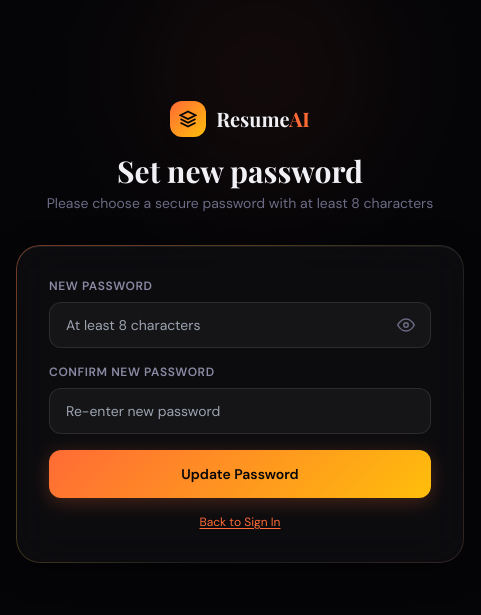
Authentication Pages and Form Validations › ResetPassword Page › validates matching new passwords before submit
Type "NewPassword123!" into the password field with placeholder "At least 8 characters". click: [240, 325]
box: [49,302,431,348]
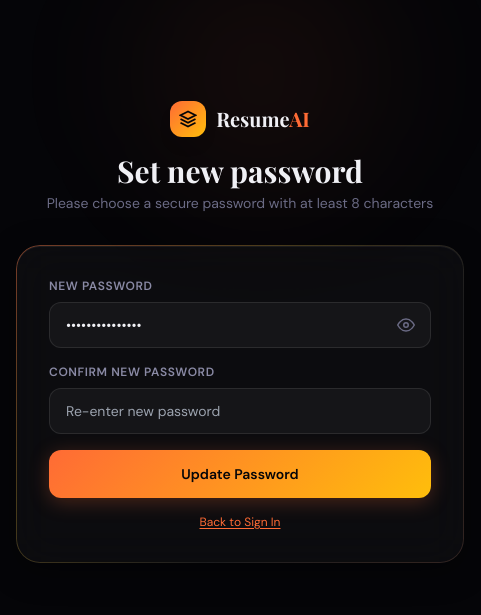
Type "DifferentPassword123!" into the password field with placeholder "Re-enter new password". click: [240, 411]
box: [49,388,431,434]
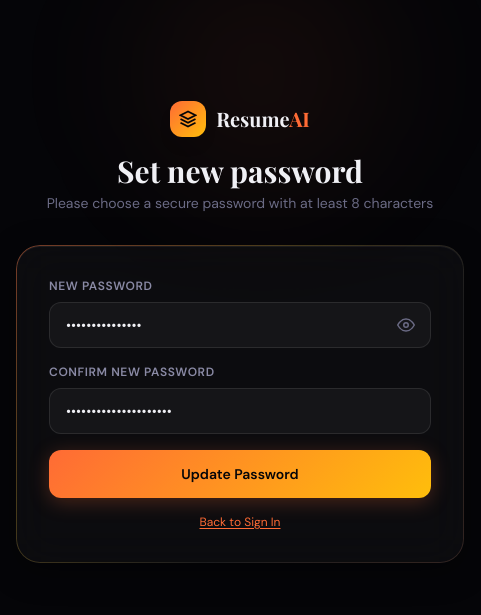
Click the button "Update Password". click: [240, 474]
box: [49,450,431,498]
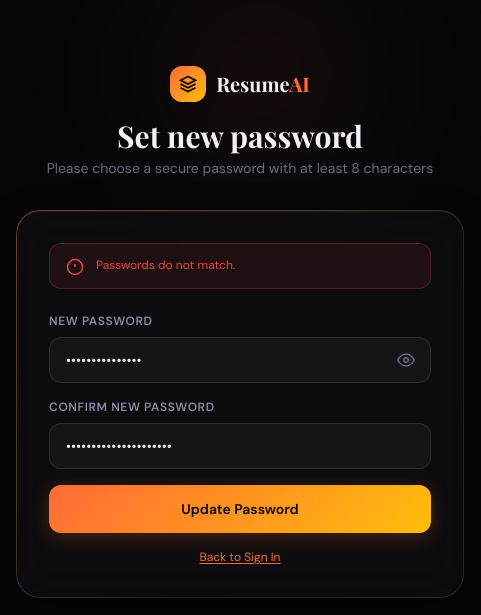
Expected: the text "Passwords do not match." is shown, [96,257,235,273]
